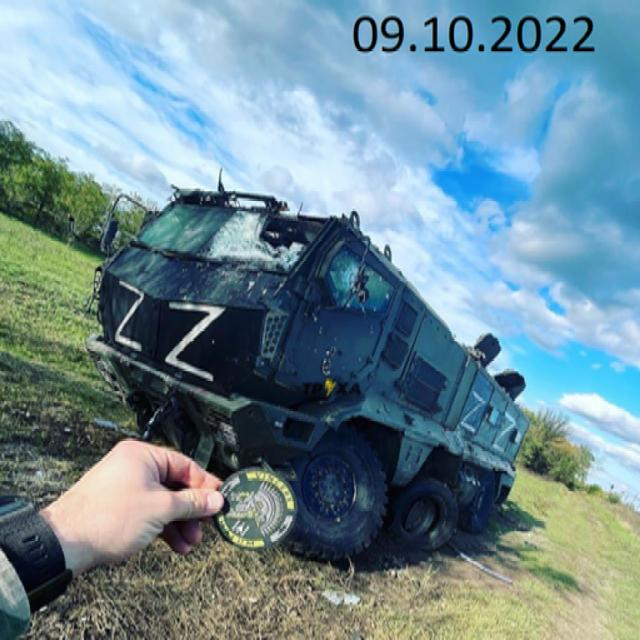TRUCK: (86, 173, 526, 564)
